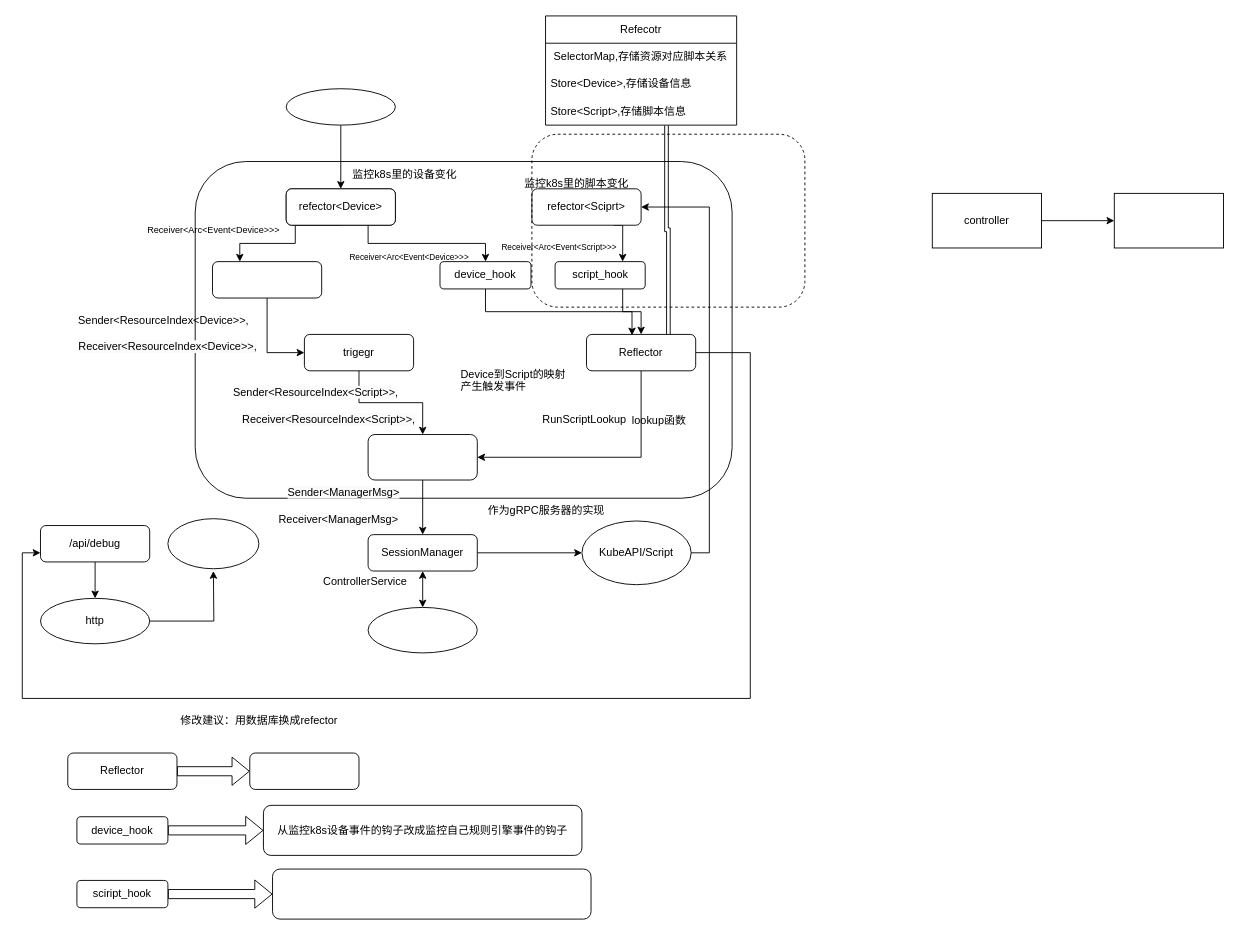
Image size: 1239x935. Some labels were removed from this diagram. Here are the shapes that lost their labels. From the top down, the centre of each, then its label:
point (340, 106): KubeAPI/Device
point (1168, 220): executor
point (267, 279): trigger_hook
point (422, 457): shceduler
point (213, 543): /api/web hook
point (422, 630): gRPC
point (304, 770): database
point (431, 893): 从监控k8s脚本事件的钩子改成监控自己规则引擎脚本事件的钩子
